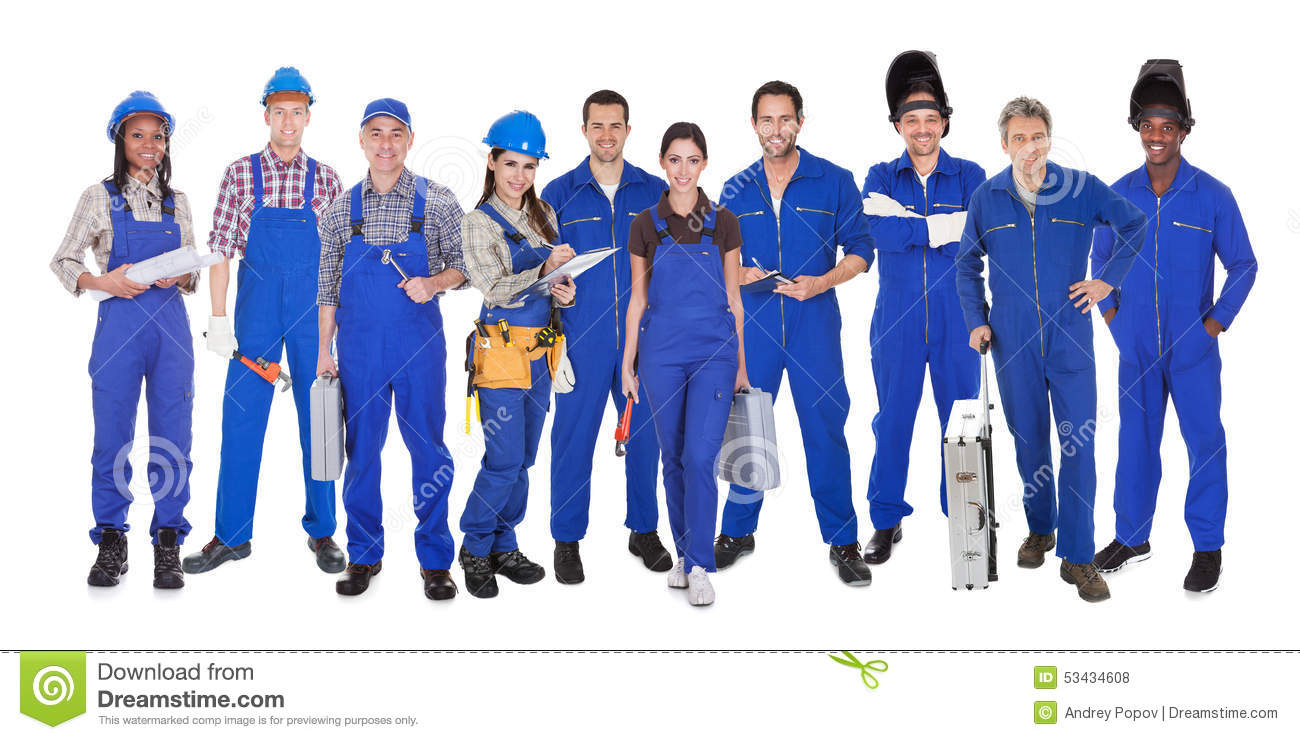person: (957, 99, 1148, 596), (1090, 102, 1257, 594), (718, 82, 874, 594), (186, 67, 343, 575), (315, 99, 469, 603), (48, 93, 198, 587), (539, 87, 672, 587), (619, 122, 750, 606), (859, 93, 987, 567), (463, 111, 578, 599)
